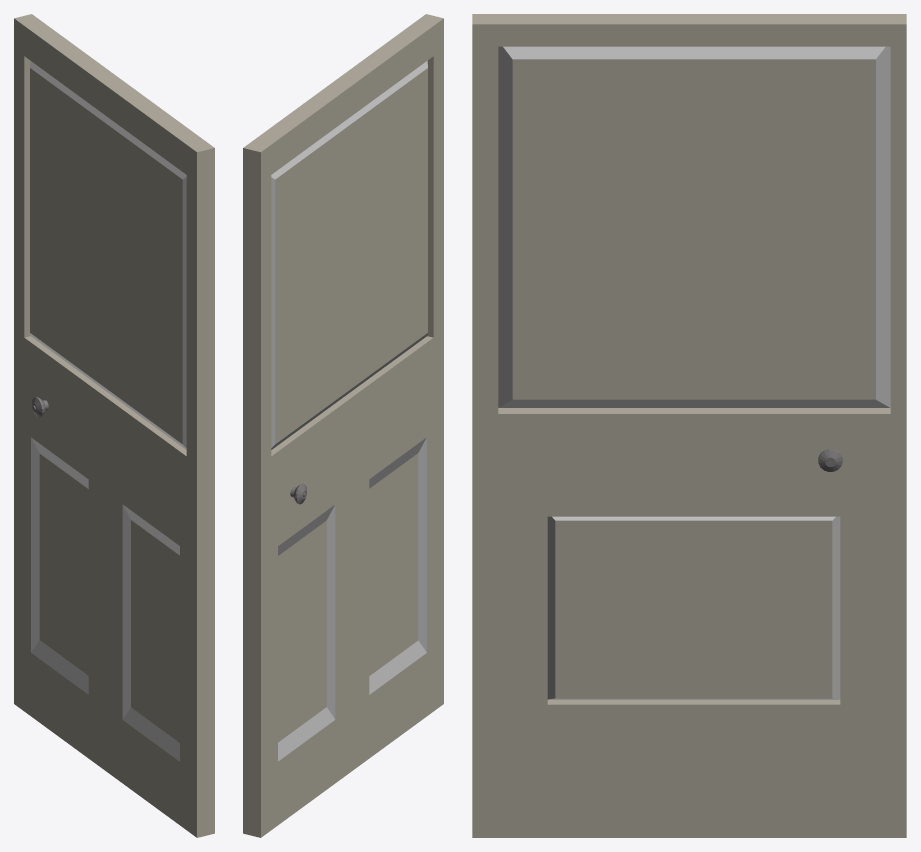
The model's file is InteriorWallDoor_1.fbx.
3 renders of one model, left to right at view 1: azimuth 30°, elevation 25°; view 2: azimuth 150°, elevation 25°; view 3: azimuth 270°, elevation 25°, orthographic. The views are drawn at different scales.
Parts seen in each view (by area): view 1: Door1; view 2: Door1; view 3: Door1.
Boxes of the visible parts, x1,y1,x2,y2 form: Door1: (14, 14, 214, 837); Door1: (243, 14, 443, 837); Door1: (472, 14, 906, 837).
Bounding box in the file's own units: 18.76 × 289 × 140.
